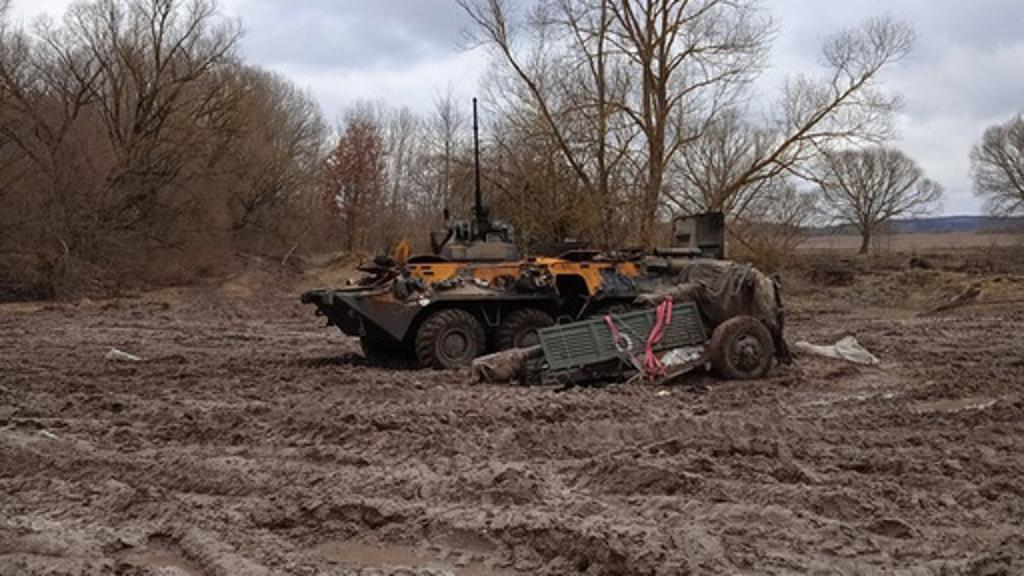APC-IFV: (298, 92, 776, 376)
ART: (468, 260, 786, 380)
